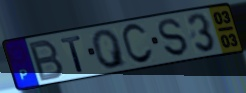3: (186, 12, 219, 55)
B: (27, 37, 66, 83)
C: (120, 22, 156, 66)
Q: (90, 27, 130, 70)
S: (157, 18, 191, 58)
T: (59, 34, 85, 75)
